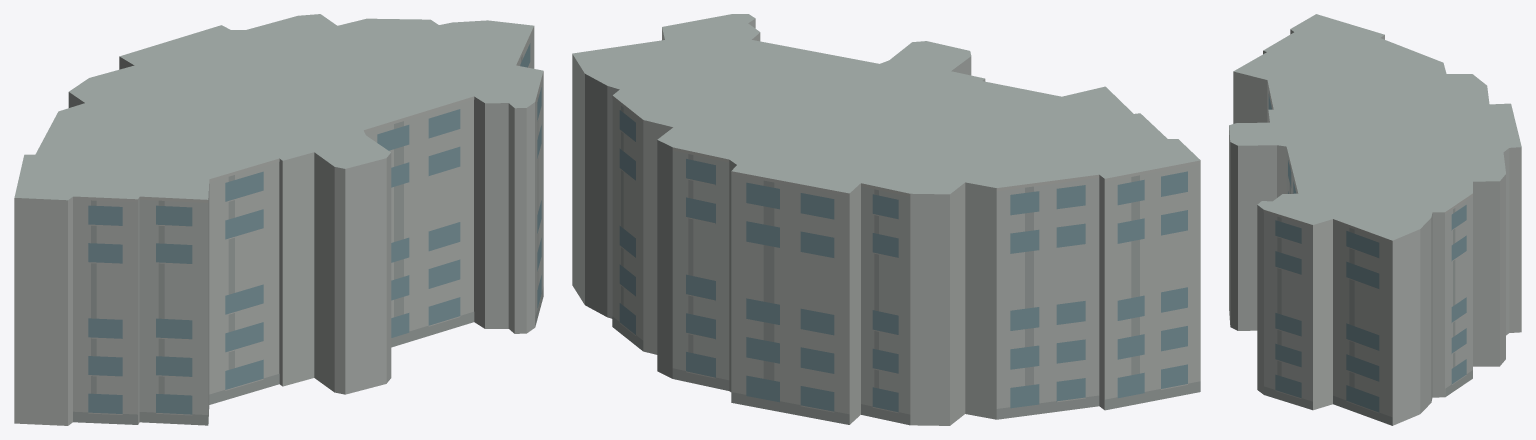
File: survey-upis-32833910.glb
3 renders of one model, left to right at view 1: azimuth 30°, elevation 25°; view 2: azimuth 150°, elevation 25°; view 3: azimuth 270°, elevation 25°, orthographic. The views are drawn at different scales.
Parts seen in each view (by area): view 1: survey-upis-32833910.tmp; view 2: survey-upis-32833910.tmp; view 3: survey-upis-32833910.tmp.
Part boxes in pixels (x1,y1,x2,y2): survey-upis-32833910.tmp: (14, 14, 543, 425); survey-upis-32833910.tmp: (572, 14, 1200, 425); survey-upis-32833910.tmp: (1229, 14, 1521, 425).
Bounding box in the file's own units: 45.42 × 17.3 × 24.78.
